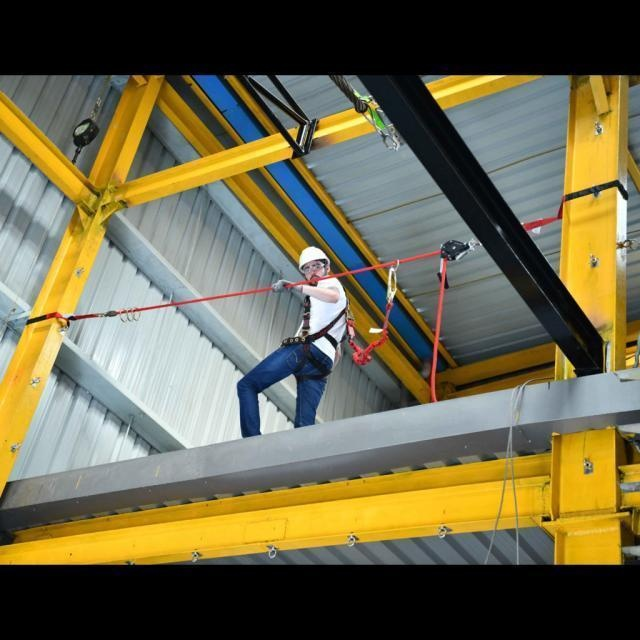Arnes_seguridad: (300, 290, 355, 348)
